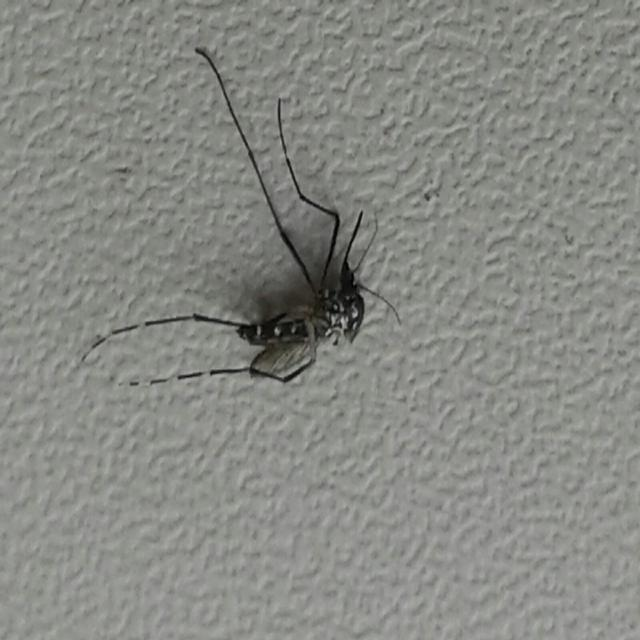albopictus: (85, 63, 421, 412)
